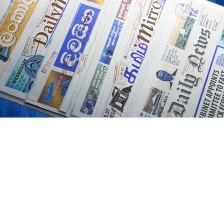news_paper: (54, 0, 158, 118), (89, 0, 176, 119), (22, 0, 107, 118), (0, 0, 85, 118), (119, 0, 203, 119), (159, 0, 224, 120), (0, 0, 46, 90)
